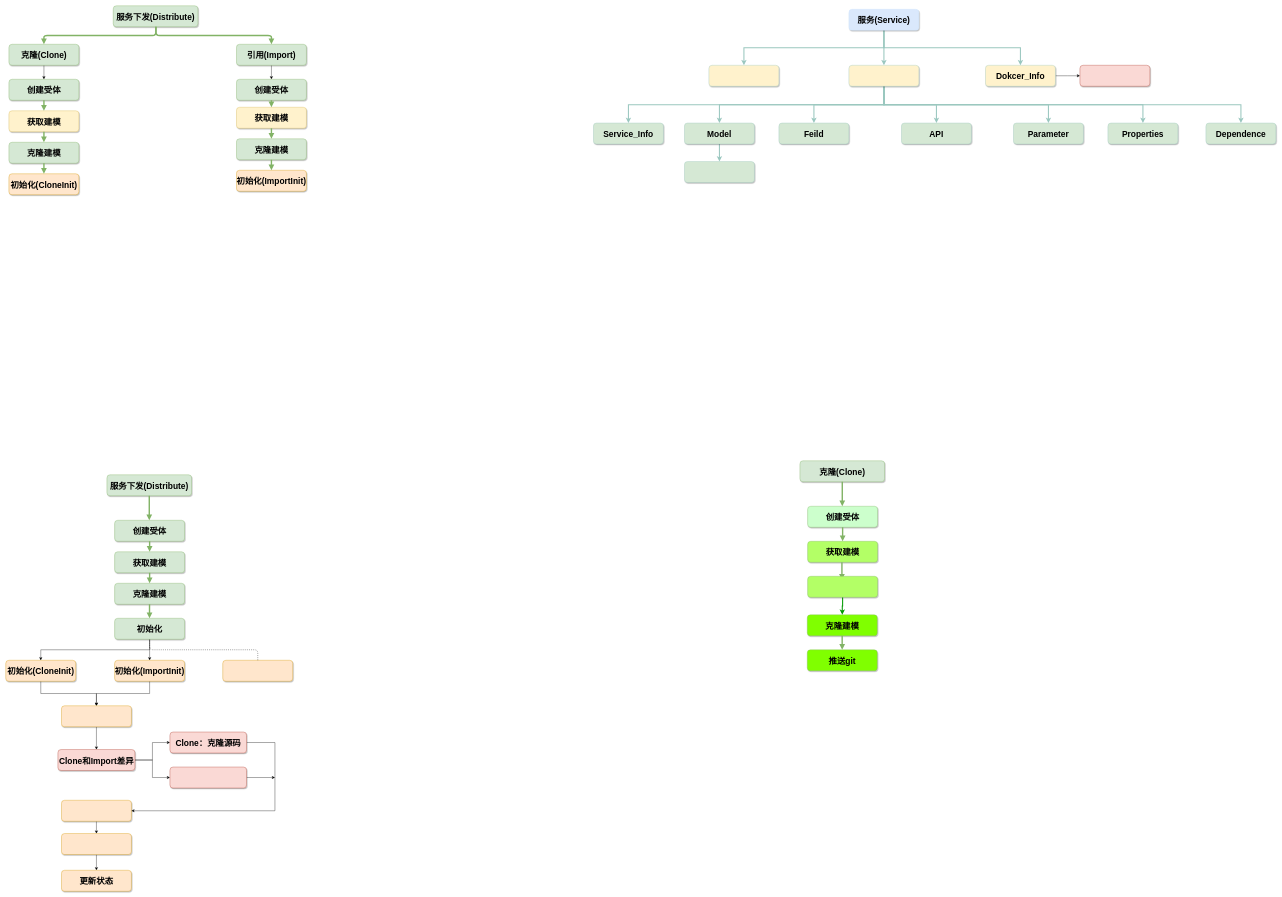
Some shapes in this 1282 by 897 pixel diagram are drawn without their labels. The centre of each missing label's shape, as x and y in pixels:
commit or zip: (1115,76)
Git_Info: (744,76)
Import：设置CI-CD: (208,777)
Model_Relation: (720,172)
初始化(CreateInit): (258,671)
初始化Git仓库: (97,716)
建模(modeling): (884,76)
执行配置迁入: (97,811)
执行预置SQL: (97,844)
获取GitInfo: (843,587)
